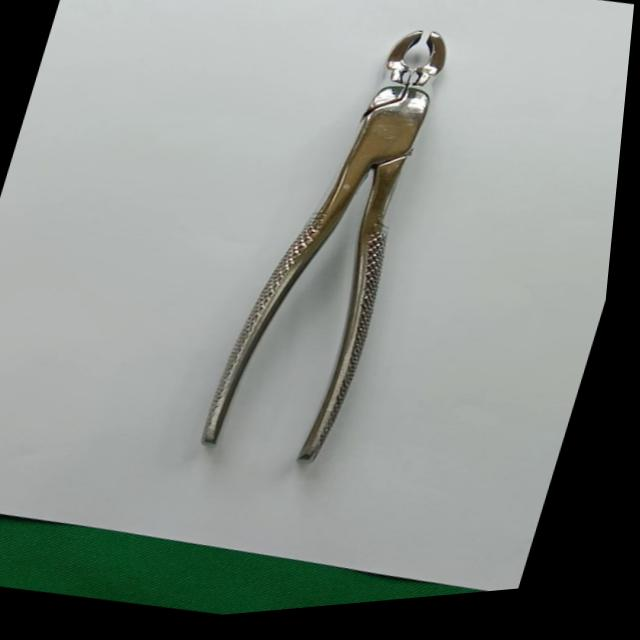BayonetForcep: (188, 7, 483, 494)
